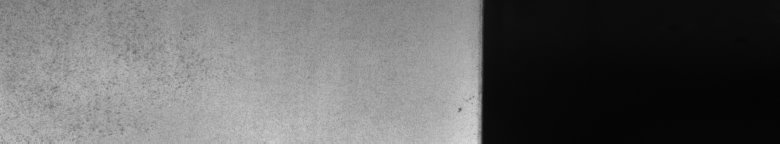ib: (24, 8, 144, 109)
